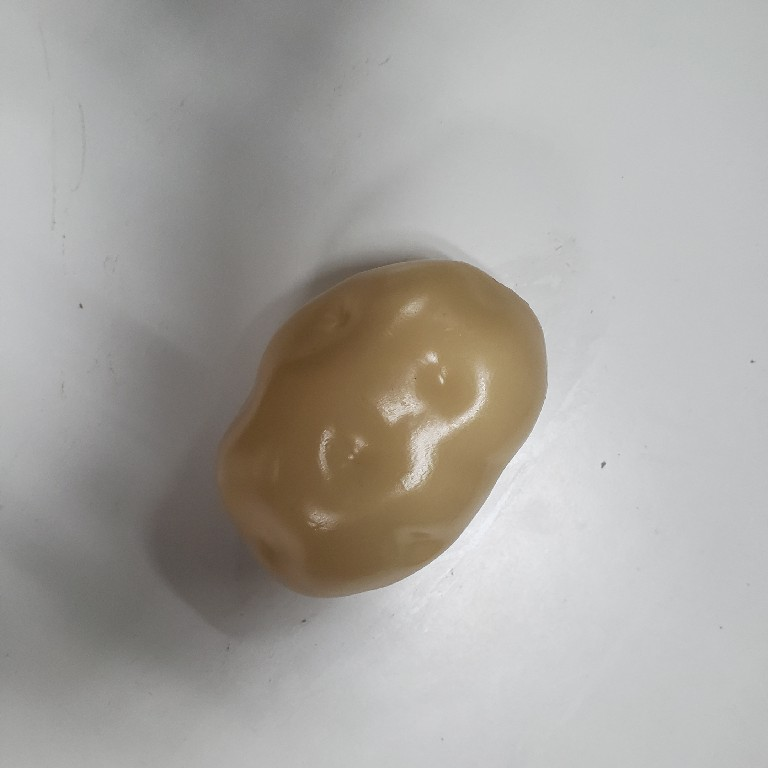fruit_potato: (211, 254, 551, 603)
